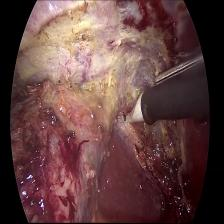Grasper: (151, 51, 203, 89)
Hook: (120, 91, 145, 127)
